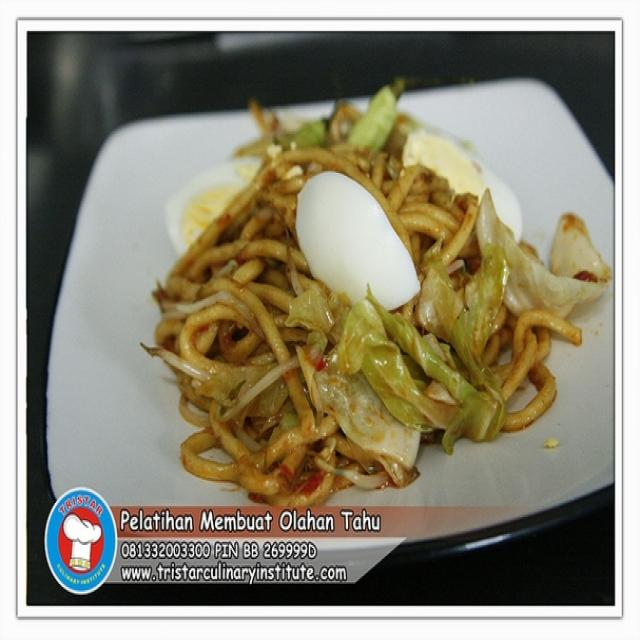面条主食: (83, 76, 601, 533)
